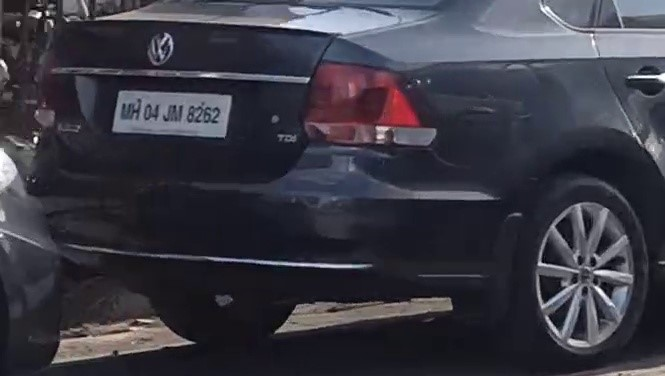MH04JM8262: (111, 90, 232, 138)
